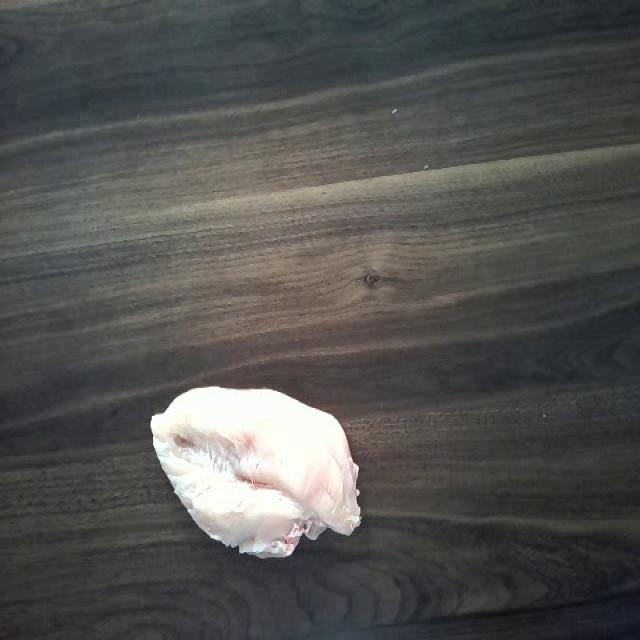breast: (140, 392, 372, 564)
